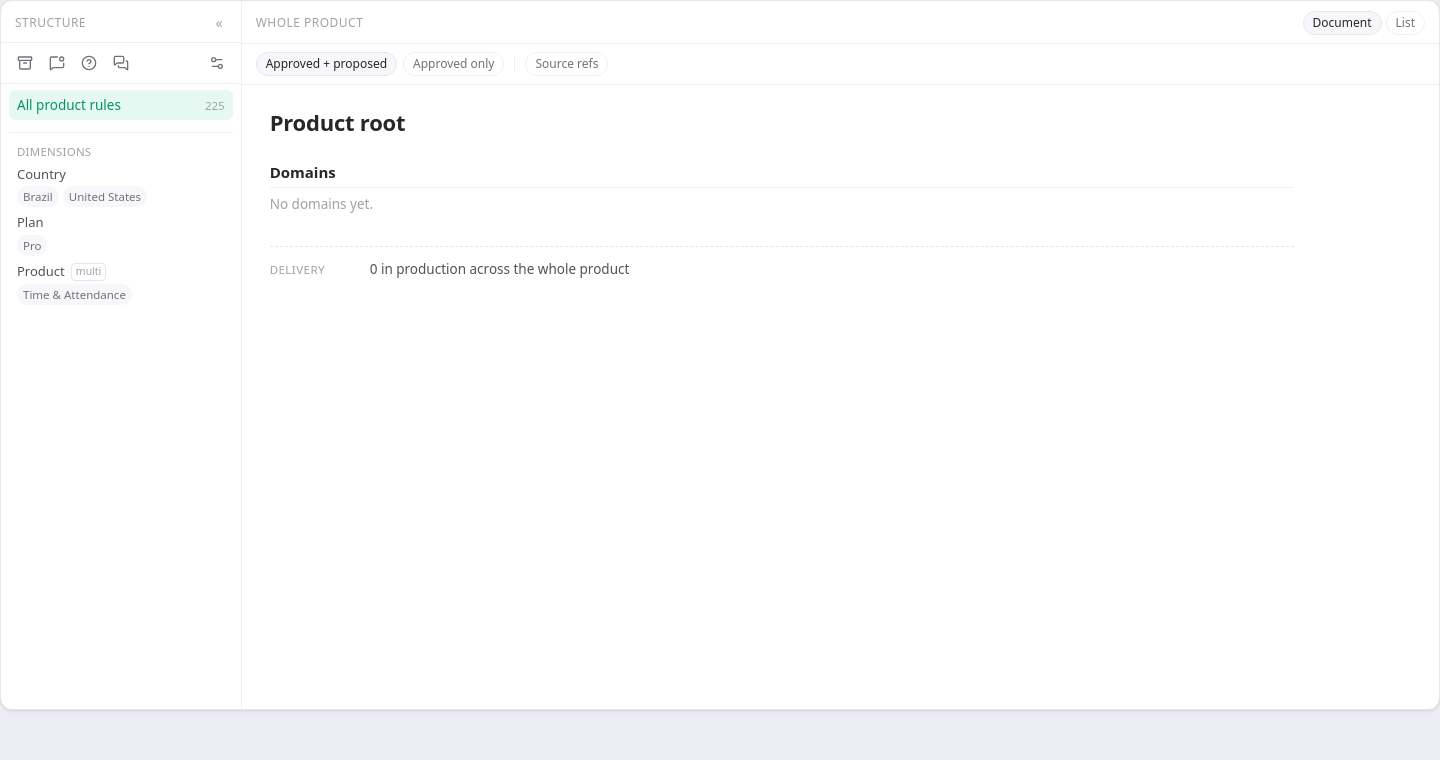
previews the list as a reader context through the context read, and clears back
This screenshot has width=1440, height=760.
Click the button "List": (1405, 23) [1386, 11, 1425, 35]
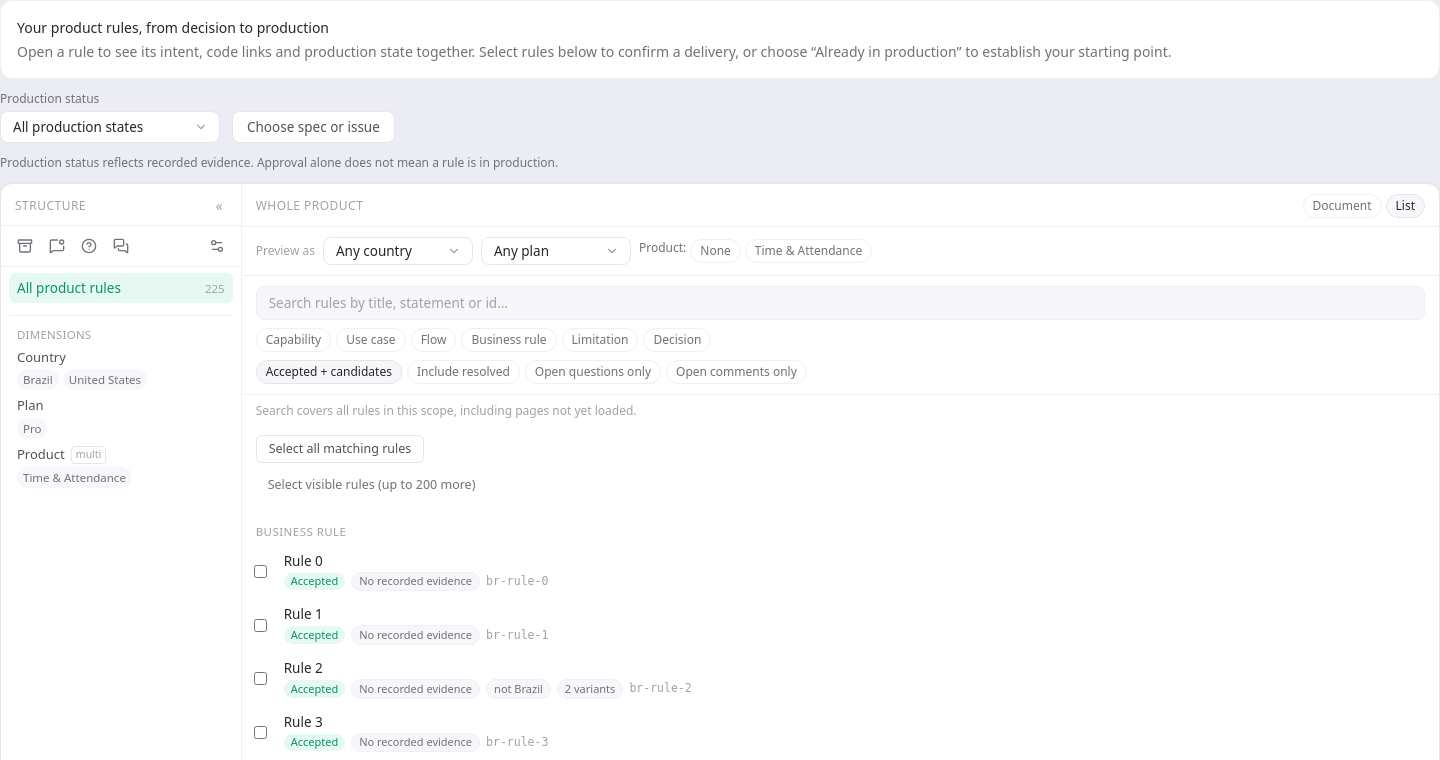
Check: the checkbox named "Select Rule 0 for delivery" is shown, box [254, 565, 267, 578]
Select "Brazil" in the dropdown named "Country": (398, 251) [323, 237, 473, 265]
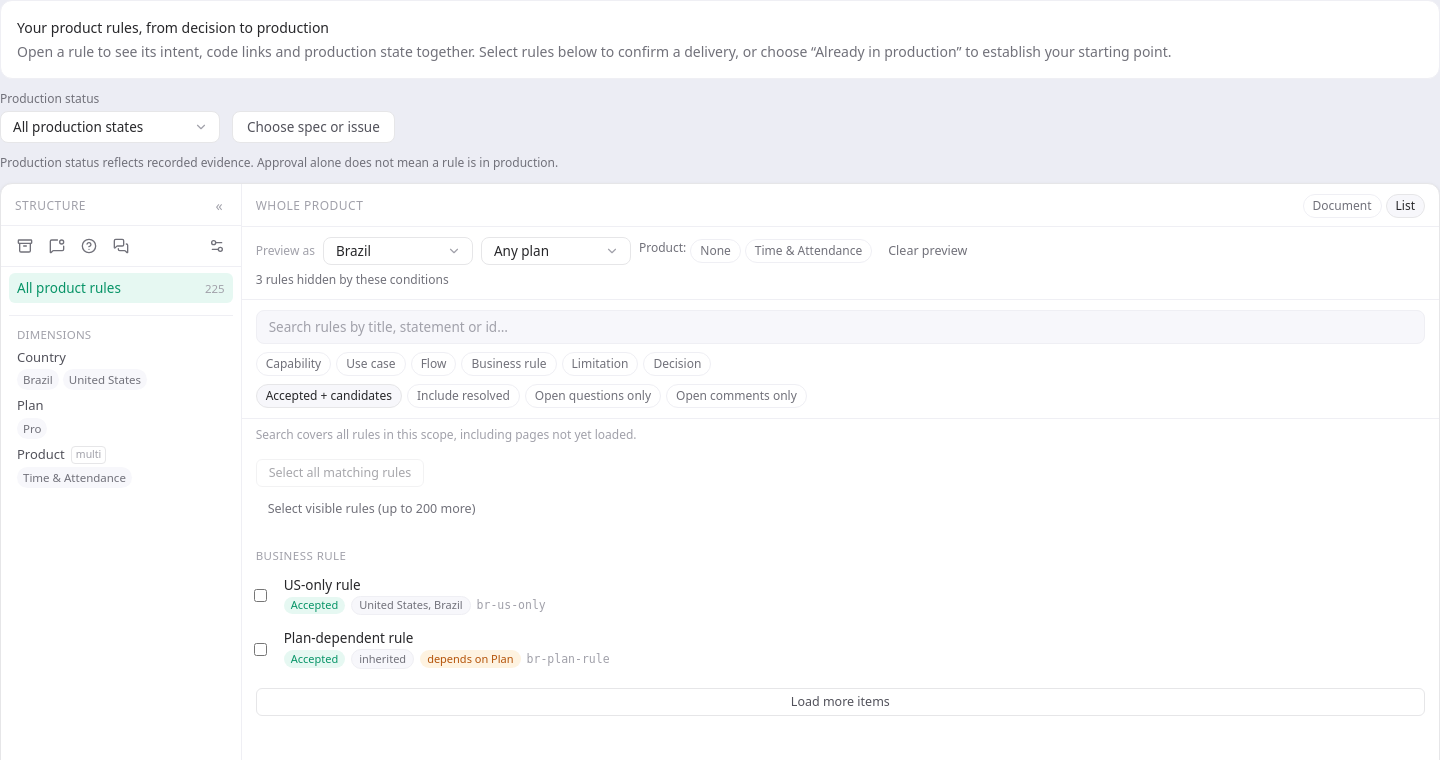
Check: the text "3 rules hidden by these conditions" is shown, box [256, 271, 449, 288]
Check: the text "US-only rule" is shown, box [284, 576, 361, 594]
Check: the text "United States, Brazil" is shown, box [351, 596, 471, 615]
Click the button "Clear preview": (928, 251) [880, 237, 975, 265]
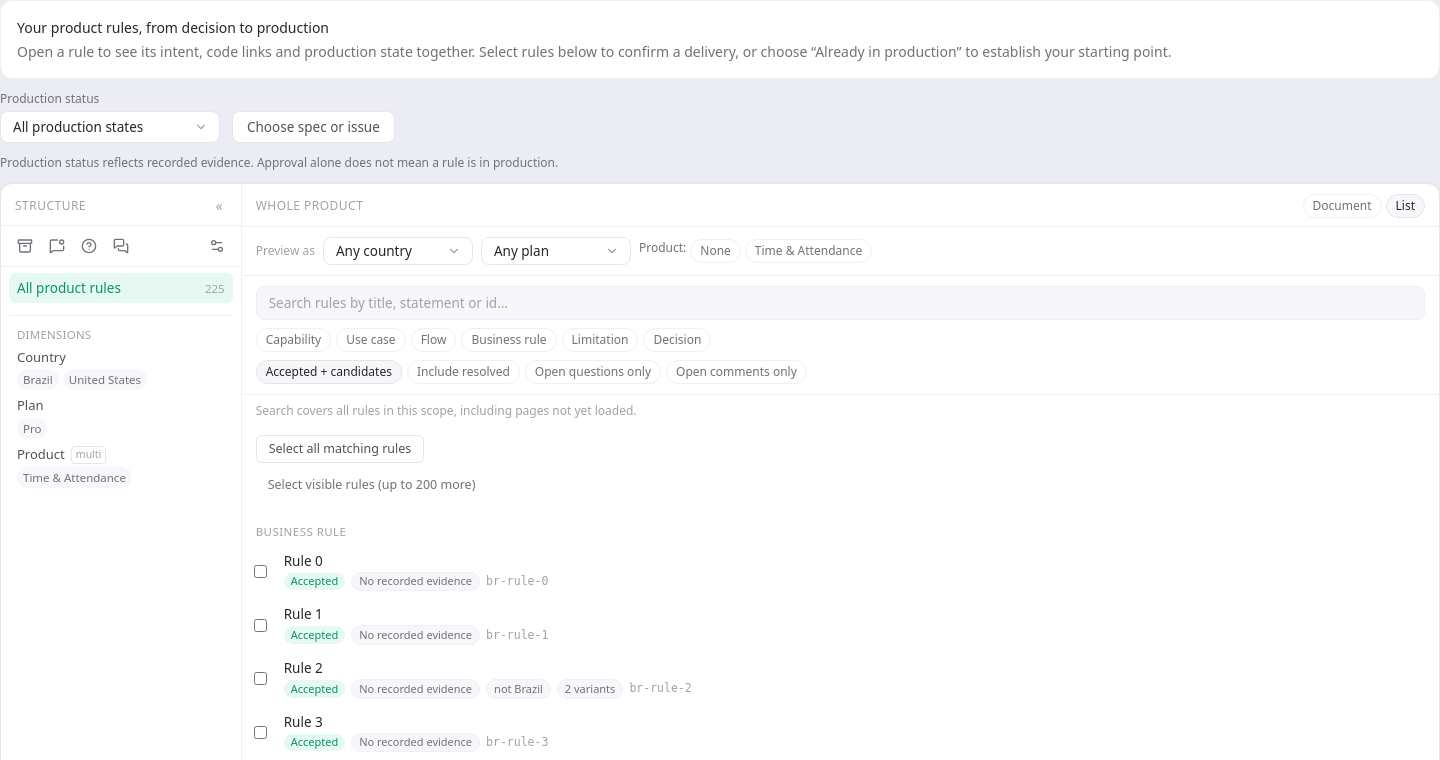
Check: the checkbox named "Select Rule 0 for delivery" is shown, box [254, 565, 267, 578]
Check: the text "rules hidden by these conditions" is gone
